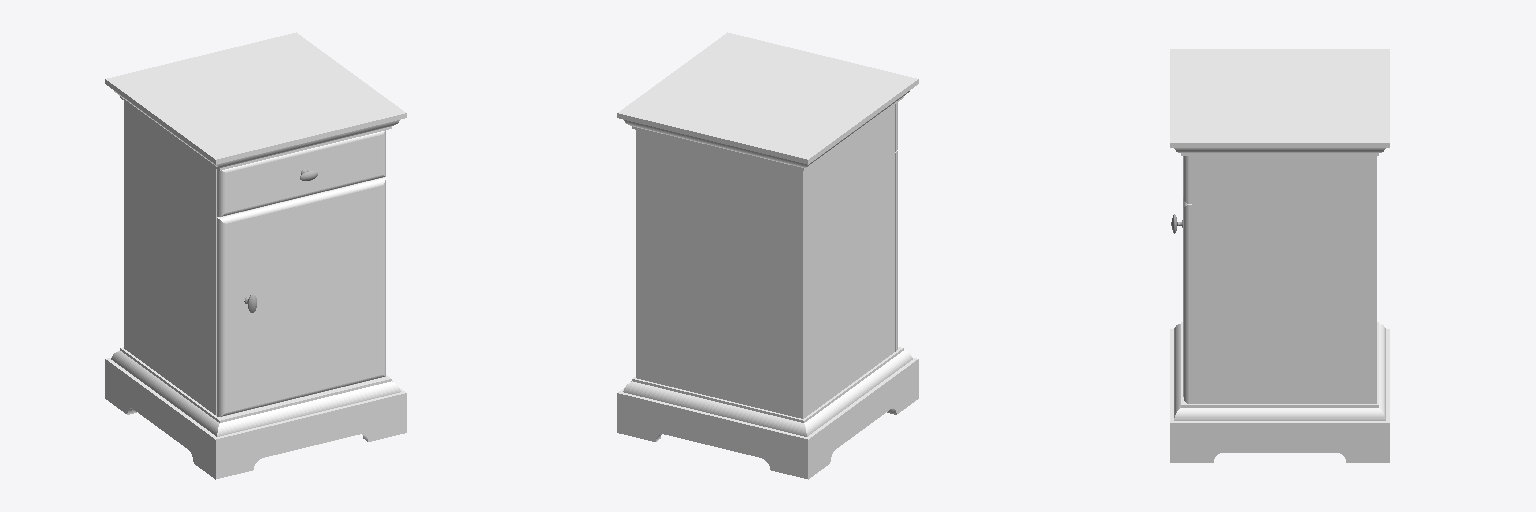
The picture shows the model from 3 angles: view 1: azimuth 30°, elevation 25°; view 2: azimuth 150°, elevation 25°; view 3: azimuth 270°, elevation 25°; orthographic projection.
Visible parts, largest first — view 1: Mesh6 Group5 IKEA_Birkeland_End_Table1 Model, Mesh2 Group2 IKEA_Birkeland_End_Table1 Model, Mesh4 Group3 IKEA_Birkeland_End_Table1 Model, Mesh7 Group6 IKEA_Birkeland_End_Table1 Model, Mesh1 Group1 IKEA_Birkeland_End_Table1 Model, Mesh5 Group4 IKEA_Birkeland_End_Table1 Model; view 2: Mesh4 Group3 IKEA_Birkeland_End_Table1 Model, Mesh2 Group2 IKEA_Birkeland_End_Table1 Model, Mesh7 Group6 IKEA_Birkeland_End_Table1 Model, Mesh5 Group4 IKEA_Birkeland_End_Table1 Model, Mesh6 Group5 IKEA_Birkeland_End_Table1 Model; view 3: Mesh4 Group3 IKEA_Birkeland_End_Table1 Model, Mesh2 Group2 IKEA_Birkeland_End_Table1 Model, Mesh7 Group6 IKEA_Birkeland_End_Table1 Model, Mesh5 Group4 IKEA_Birkeland_End_Table1 Model, Mesh6 Group5 IKEA_Birkeland_End_Table1 Model.
Part boxes in pixels (x1,y1,x2,y2): Mesh6 Group5 IKEA_Birkeland_End_Table1 Model: (217, 177, 385, 416); Mesh2 Group2 IKEA_Birkeland_End_Table1 Model: (105, 32, 406, 170); Mesh4 Group3 IKEA_Birkeland_End_Table1 Model: (124, 101, 216, 415); Mesh7 Group6 IKEA_Birkeland_End_Table1 Model: (105, 357, 406, 479); Mesh1 Group1 IKEA_Birkeland_End_Table1 Model: (217, 130, 385, 216); Mesh5 Group4 IKEA_Birkeland_End_Table1 Model: (111, 347, 400, 436); Mesh4 Group3 IKEA_Birkeland_End_Table1 Model: (636, 105, 894, 418); Mesh2 Group2 IKEA_Birkeland_End_Table1 Model: (617, 32, 918, 170); Mesh7 Group6 IKEA_Birkeland_End_Table1 Model: (617, 357, 918, 479); Mesh5 Group4 IKEA_Birkeland_End_Table1 Model: (623, 347, 912, 436); Mesh6 Group5 IKEA_Birkeland_End_Table1 Model: (895, 151, 897, 351); Mesh4 Group3 IKEA_Birkeland_End_Table1 Model: (1192, 156, 1376, 403); Mesh2 Group2 IKEA_Birkeland_End_Table1 Model: (1170, 49, 1389, 155); Mesh7 Group6 IKEA_Birkeland_End_Table1 Model: (1170, 329, 1389, 462); Mesh5 Group4 IKEA_Birkeland_End_Table1 Model: (1174, 322, 1385, 420); Mesh6 Group5 IKEA_Birkeland_End_Table1 Model: (1183, 197, 1191, 403).
Bounding box in the file's own units: 0.4 × 0.64 × 0.4.